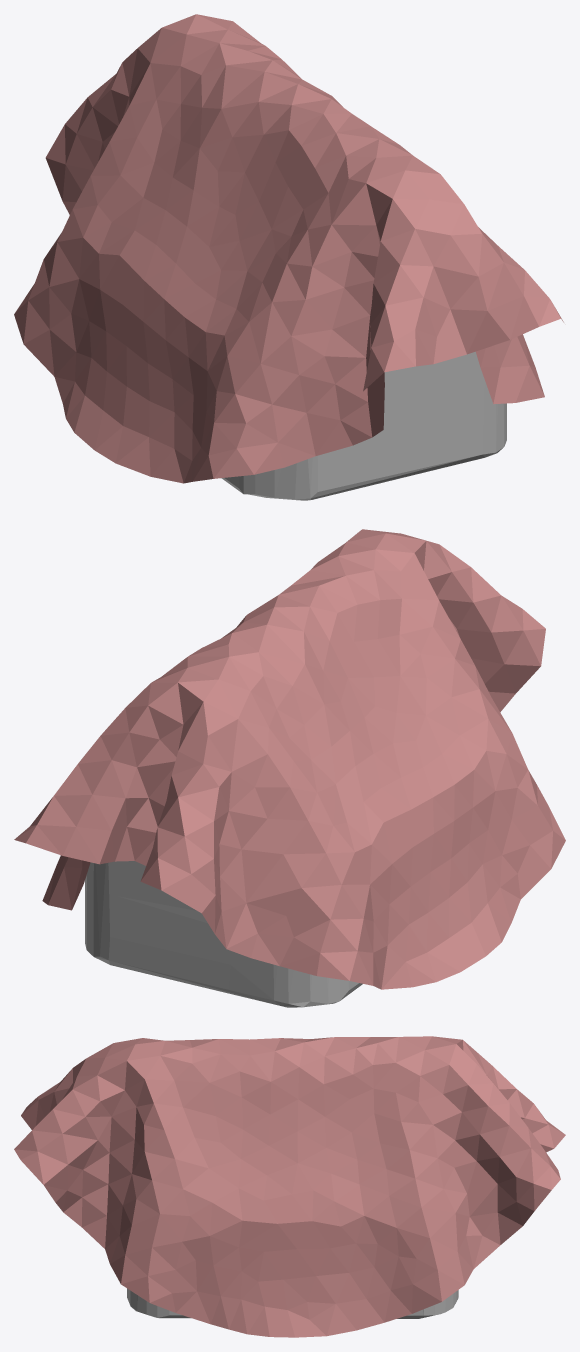
The model's file is level_0.glb.
The picture shows the model from 3 angles, top to bottom: view 1: azimuth 30°, elevation 25°; view 2: azimuth 150°, elevation 25°; view 3: azimuth 270°, elevation 25°; orthographic projection. The views are drawn at different scales.
Parts seen in each view (by area): view 1: world, object.obj; view 2: world, object.obj; view 3: world, object.obj.
Boxes of the visible parts, bbox=[...] form: world: bbox=[14, 14, 563, 483]; object.obj: bbox=[221, 351, 506, 500]; world: bbox=[14, 529, 565, 989]; object.obj: bbox=[85, 861, 362, 1007]; world: bbox=[14, 1036, 565, 1337]; object.obj: bbox=[127, 1288, 458, 1318].
Bounding box in the file's own units: 0.3177 × 0.2557 × 0.5405.
